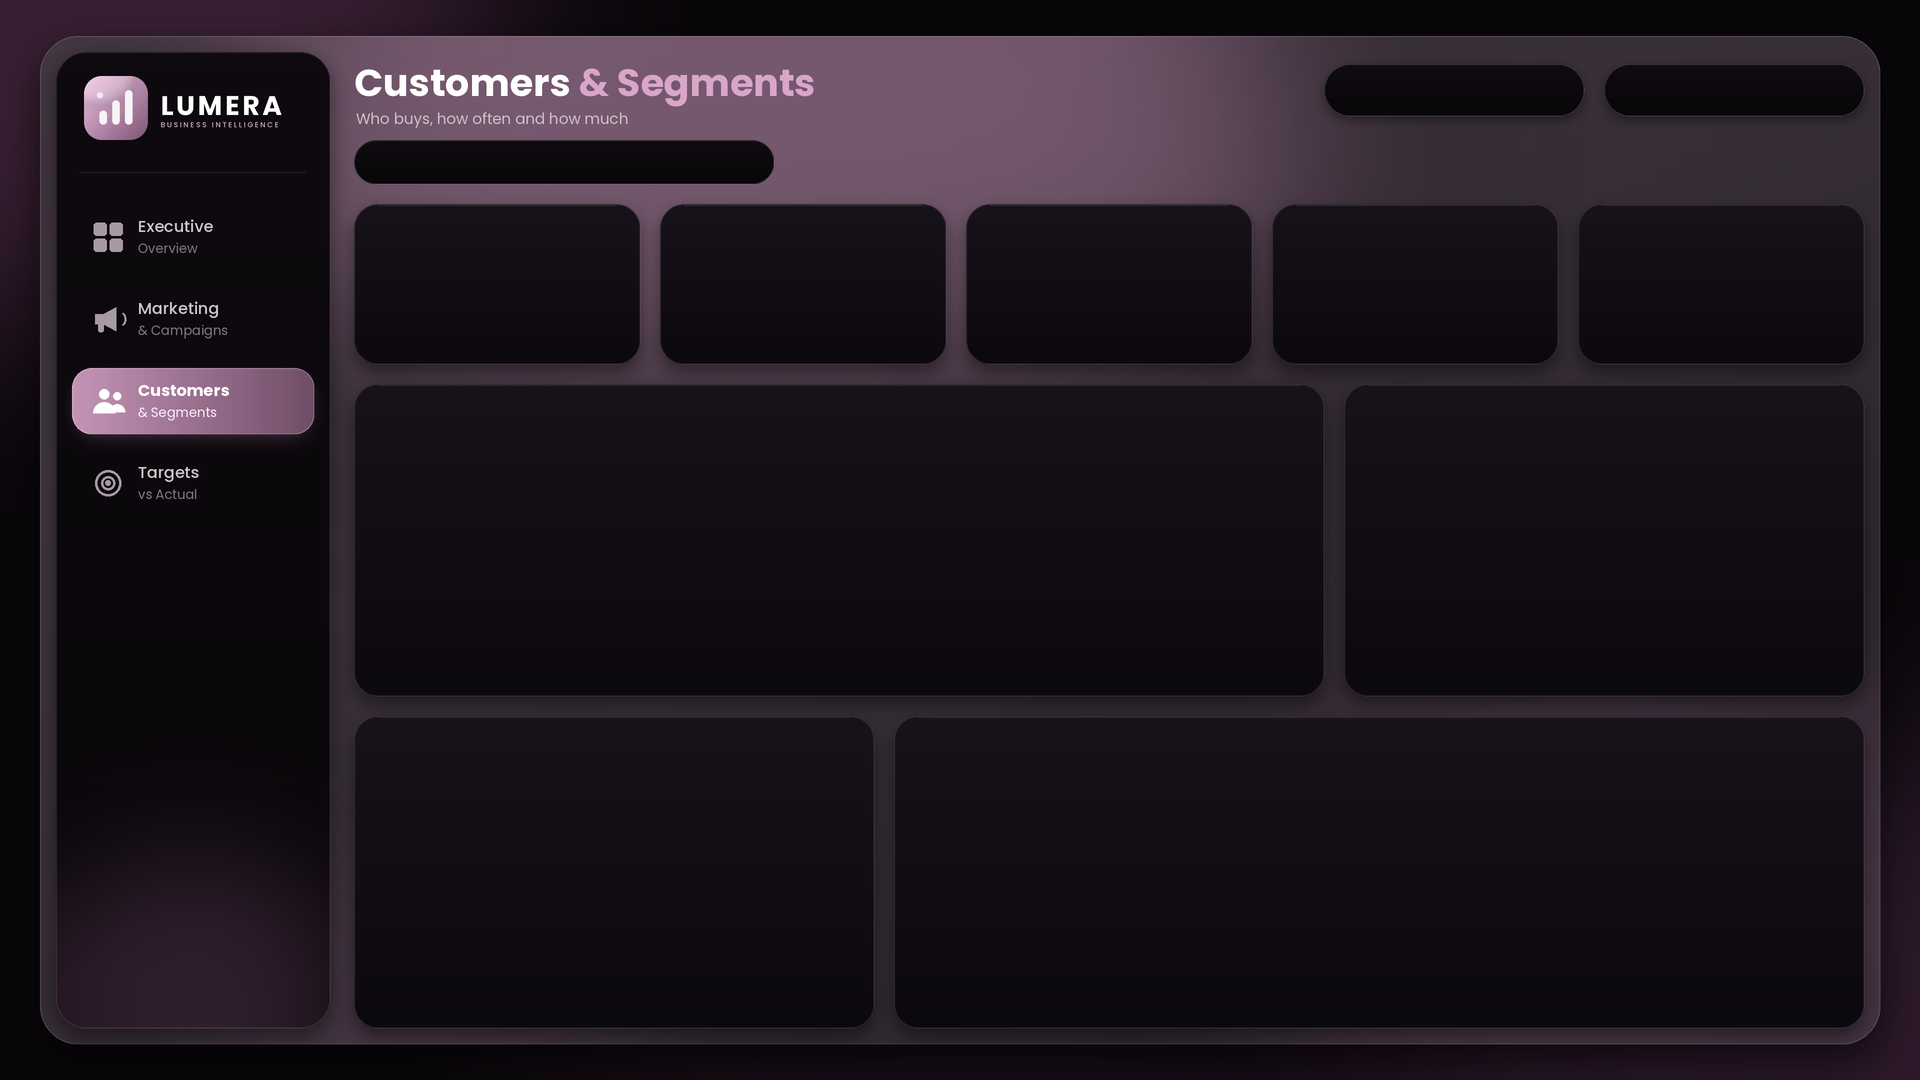

The dashboard page shown, as its layout file describes it:
{"tool":"powerbi","page":{"name":"Customers & Segments","canvas":[1280,720],"ordinal":2},"visuals":[{"type":"cardVisual","fields":{"Data":["_measures.Active Customers"]},"box":[225.8,128,195.6,114.7],"z":0},{"type":"cardVisual","fields":{"Data":["_measures.NumOf Customer"]},"box":[433.8,122.7,198.2,126.2],"z":1000},{"type":"cardVisual","fields":{"Data":["_measures.Net Sales per Customer"]},"box":[640,123.6,208.9,123.6],"z":2000},{"type":"cardVisual","fields":{"Data":["Count(dim_customer.city)"]},"box":[847.1,117.3,219.6,136.9],"z":3000},{"type":"barChart","title":"Gross Sales by Region","fields":{"Category":["dim_customer.region"],"Y":["_measures.Gross Sales"]},"box":[238.2,481.8,349.3,205.3],"z":5000},{"type":"barChart","title":"Gross Sales by Account Manager","fields":{"Category":["dim_customer.account_manager"],"Y":["_measures.Gross Sales"]},"box":[596.4,479.1,652.4,211.6],"z":6000},{"type":"cardVisual","fields":{"Data":["Count(dim_geo.region)"]},"box":[1044.4,128,224,114.7],"z":6001},{"type":"columnChart","title":"Gross Sales By Customer Name","fields":{"Category":["dim_customer.customer_name"],"Y":["_measures.Gross Sales"]},"box":[899.6,260.4,349.3,198.2],"z":6002},{"type":"azureMap","fields":{"Category":["dim_customer.city"],"Series":["dim_customer.region"],"Size":["_measures.Gross Sales"]},"box":[238.2,260.4,639.1,198.2],"z":6003},{"type":"pageNavigator","box":[39.9,121.6,175.1,226.6],"z":6004},{"type":"slicer","fields":{"Values":["dim_date.year"]},"box":[885.3,35.6,166.2,54.2],"z":6005},{"type":"slicer","fields":{"Values":["dim_geo.region"]},"box":[1071.1,35.6,173.3,54.2],"z":6006},{"type":"htmlContent443BE3AD55E043BF878BED274D3A6855","fields":{"content":["_measures.Animated Name"]},"box":[222.2,86.2,336,48],"z":6007}]}

Visuals, with their boxes on the page's 1280x720 design canvas (x1, y1, x2, y2). These are canvas units, not pixel positions in the 1920x1080 screenshot, which may show the page scaled, cropped or inside an application window:
cardVisual - _measures.Active Customers: 226,128,421,243
cardVisual - _measures.NumOf Customer: 434,123,632,249
cardVisual - _measures.Net Sales per Customer: 640,124,849,247
cardVisual - Count(dim_customer.city): 847,117,1067,254
"Gross Sales by Region" barChart: 238,482,588,687
"Gross Sales by Account Manager" barChart: 596,479,1249,691
cardVisual - Count(dim_geo.region): 1044,128,1268,243
"Gross Sales By Customer Name" columnChart: 900,260,1249,459
azureMap - dim_customer.city x dim_customer.region: 238,260,877,459
pageNavigator: 40,122,215,348
slicer - dim_date.year: 885,36,1052,90
slicer - dim_geo.region: 1071,36,1244,90
htmlContent443BE3AD55E043BF878BED274D3A6855 - _measures.Animated Name: 222,86,558,134
